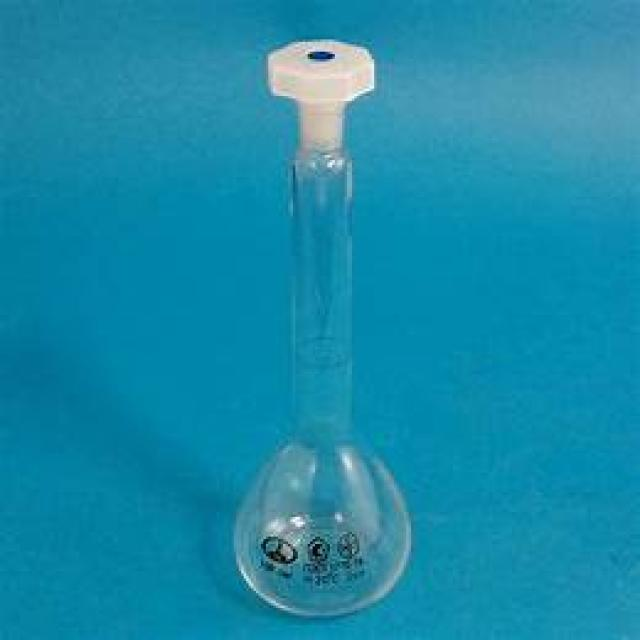Volumetric flask: (215, 29, 434, 618)
